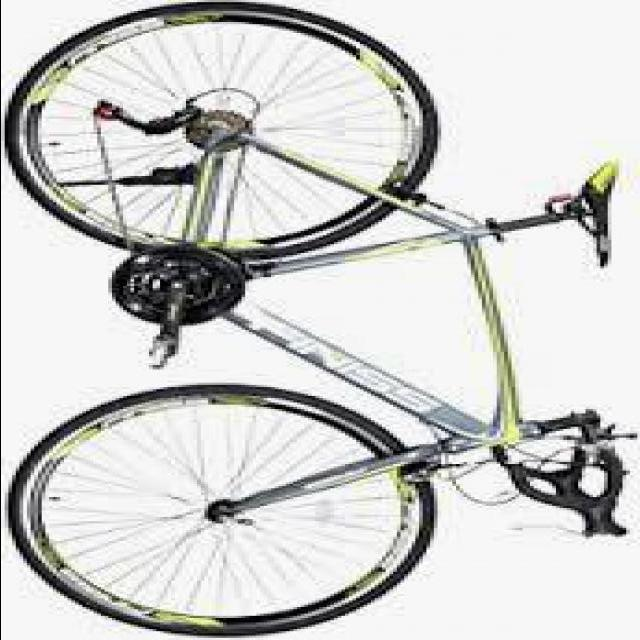bicycle: (16, 10, 640, 615)
